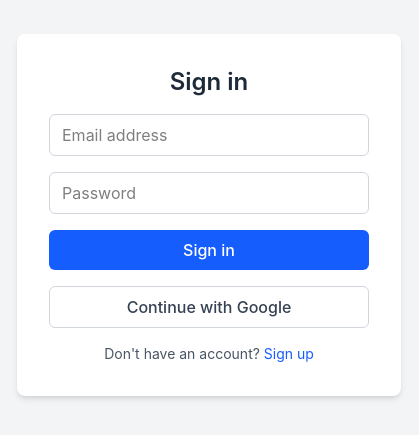
Test: LoginPage › shows an error message when login fails
Type "test@example.com" into the field with placeholder "Email address" at (209, 135), box [49, 114, 369, 156]
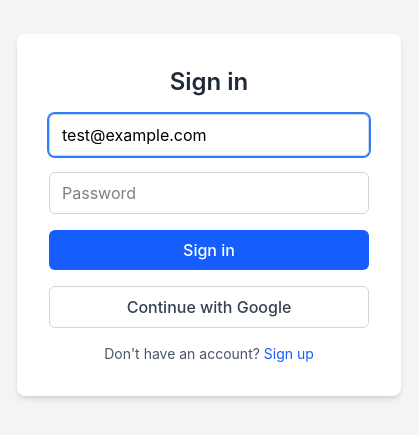
Type "wrongpassword" into the password field with placeholder "Password" at (209, 193), box [49, 172, 369, 214]
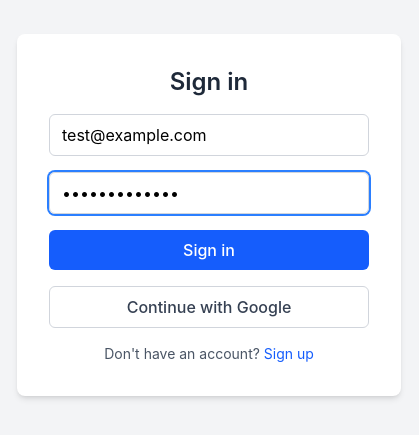
Click the button "Sign in" at (209, 250), box [49, 230, 369, 270]
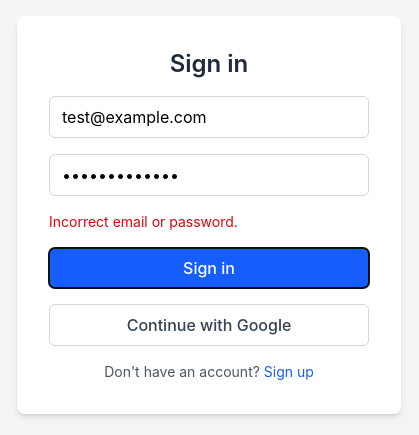
expect the text "Incorrect email or password." is shown: met, box [49, 213, 238, 230]
